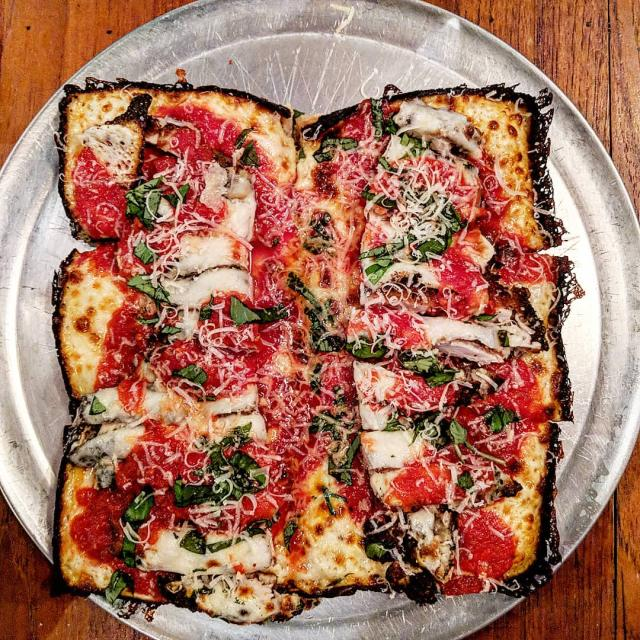basil: (404, 410, 510, 470), (407, 189, 464, 263), (207, 442, 269, 504), (309, 385, 359, 440), (122, 172, 164, 232), (206, 517, 268, 557), (325, 431, 367, 487), (303, 300, 347, 353), (170, 472, 232, 509), (227, 296, 293, 326), (363, 530, 408, 565), (303, 213, 338, 257), (394, 341, 438, 376), (126, 272, 172, 304), (341, 334, 391, 363), (101, 570, 141, 606), (282, 268, 322, 304), (313, 134, 357, 166), (121, 482, 156, 522), (172, 519, 207, 559), (365, 95, 398, 136), (120, 516, 144, 568), (318, 482, 350, 516), (482, 401, 516, 432), (220, 419, 256, 448), (359, 185, 395, 214), (358, 238, 410, 258), (378, 407, 415, 433), (171, 364, 210, 388), (363, 258, 397, 285), (401, 131, 430, 162), (422, 367, 462, 388), (132, 238, 160, 266), (163, 181, 191, 208), (236, 141, 260, 167), (308, 362, 328, 393), (470, 306, 500, 325), (280, 518, 296, 552), (375, 154, 398, 177), (198, 293, 216, 322), (233, 125, 254, 148), (88, 395, 109, 416), (458, 471, 478, 492), (132, 314, 162, 326), (158, 323, 182, 335), (198, 394, 218, 406), (500, 329, 510, 350)
pizza: (40, 73, 588, 602)
